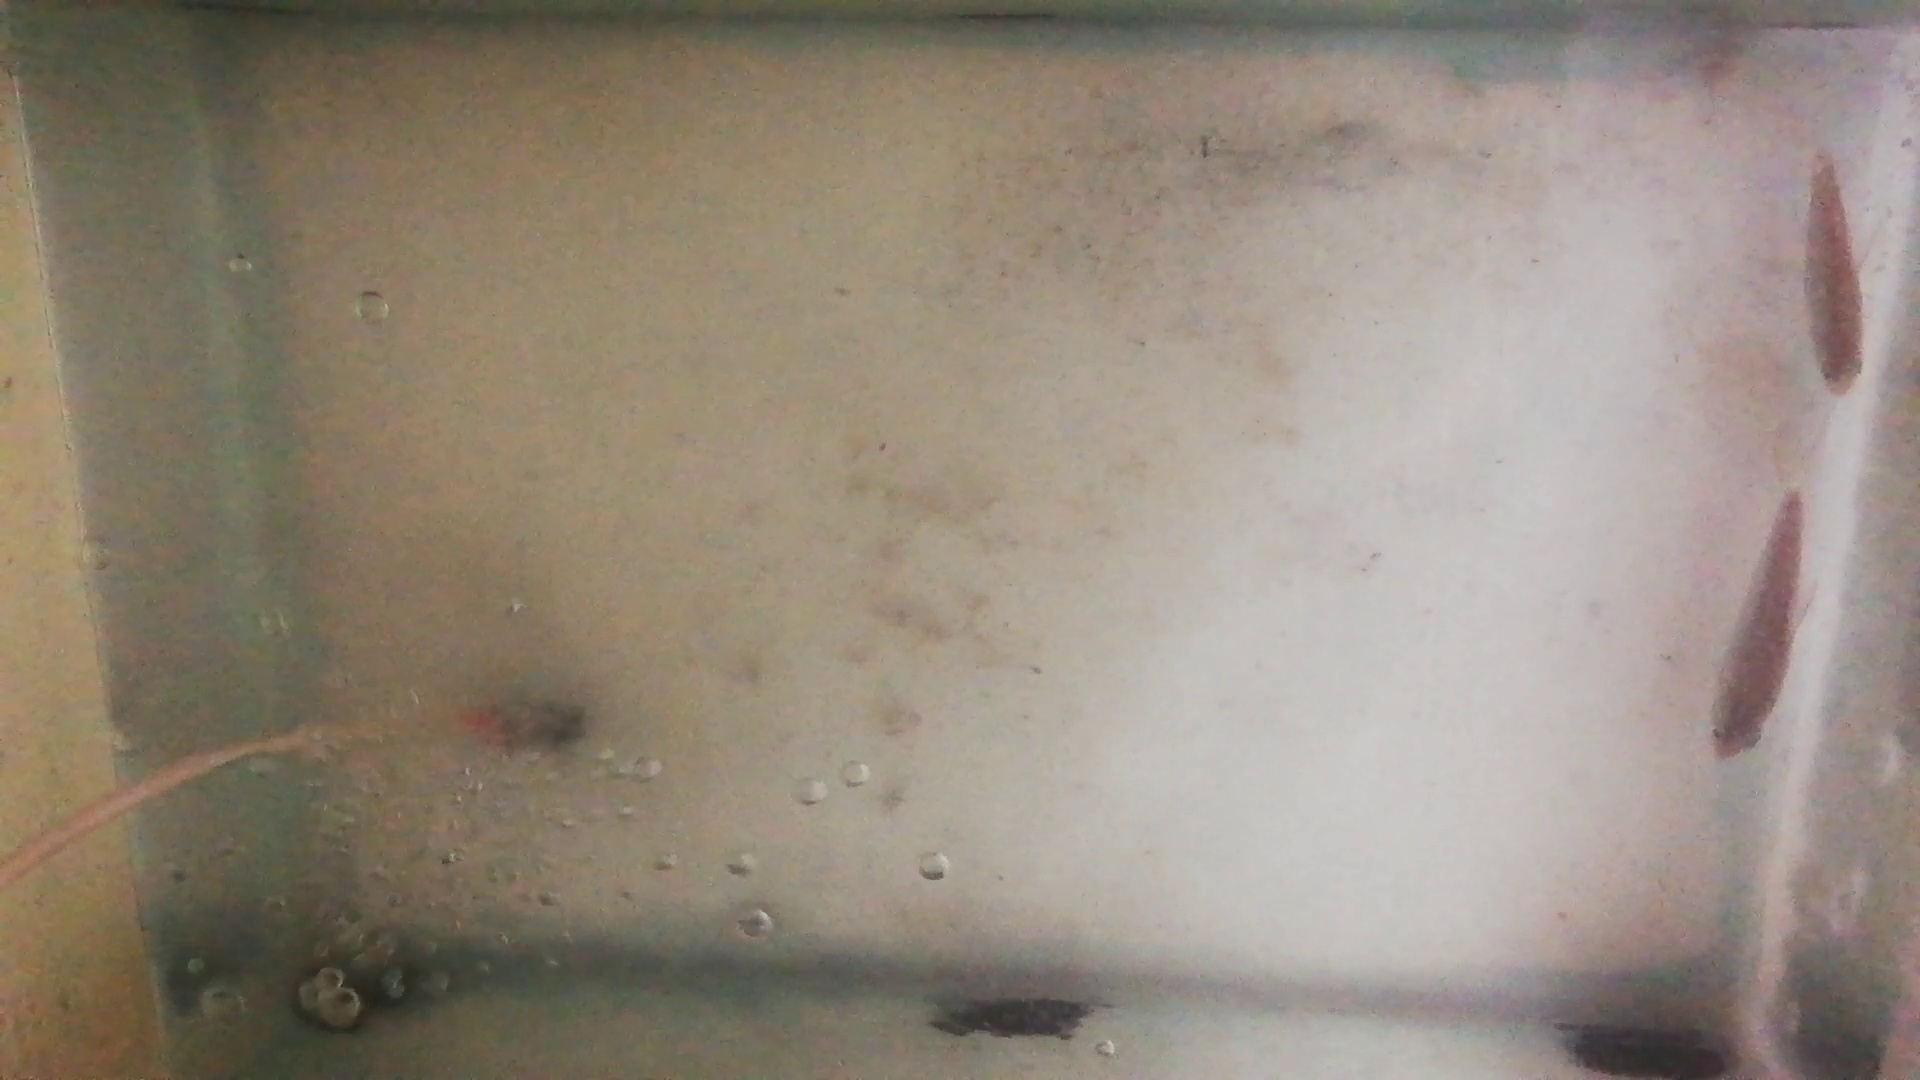fish: (1705, 492, 1805, 760), (1804, 157, 1869, 400)
